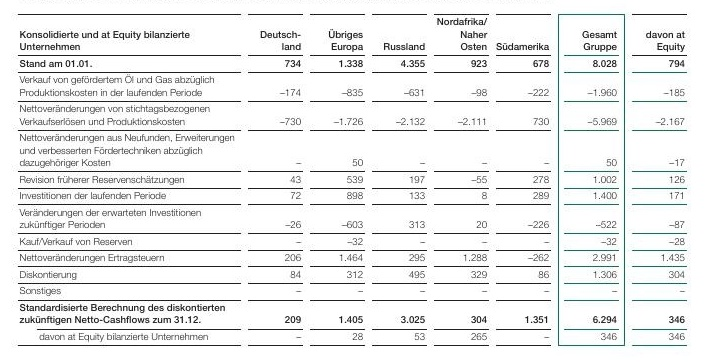table: (0, 0, 712, 362)
